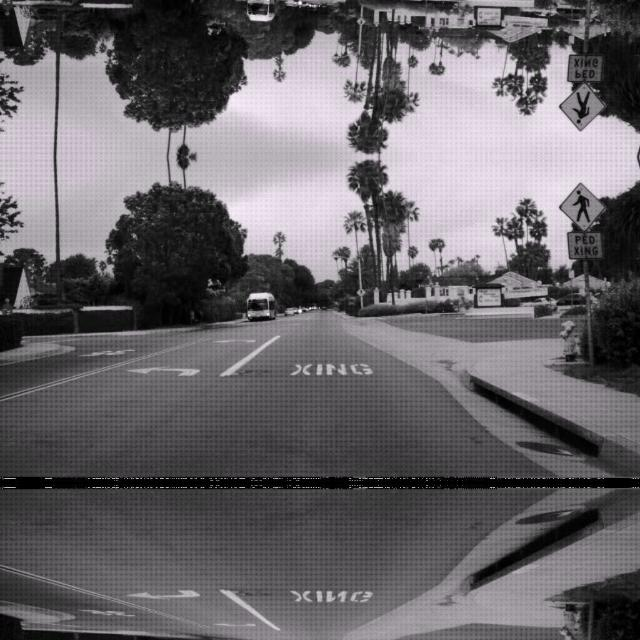pedestrianCrossing: (559, 181, 605, 231), (559, 81, 605, 131)
